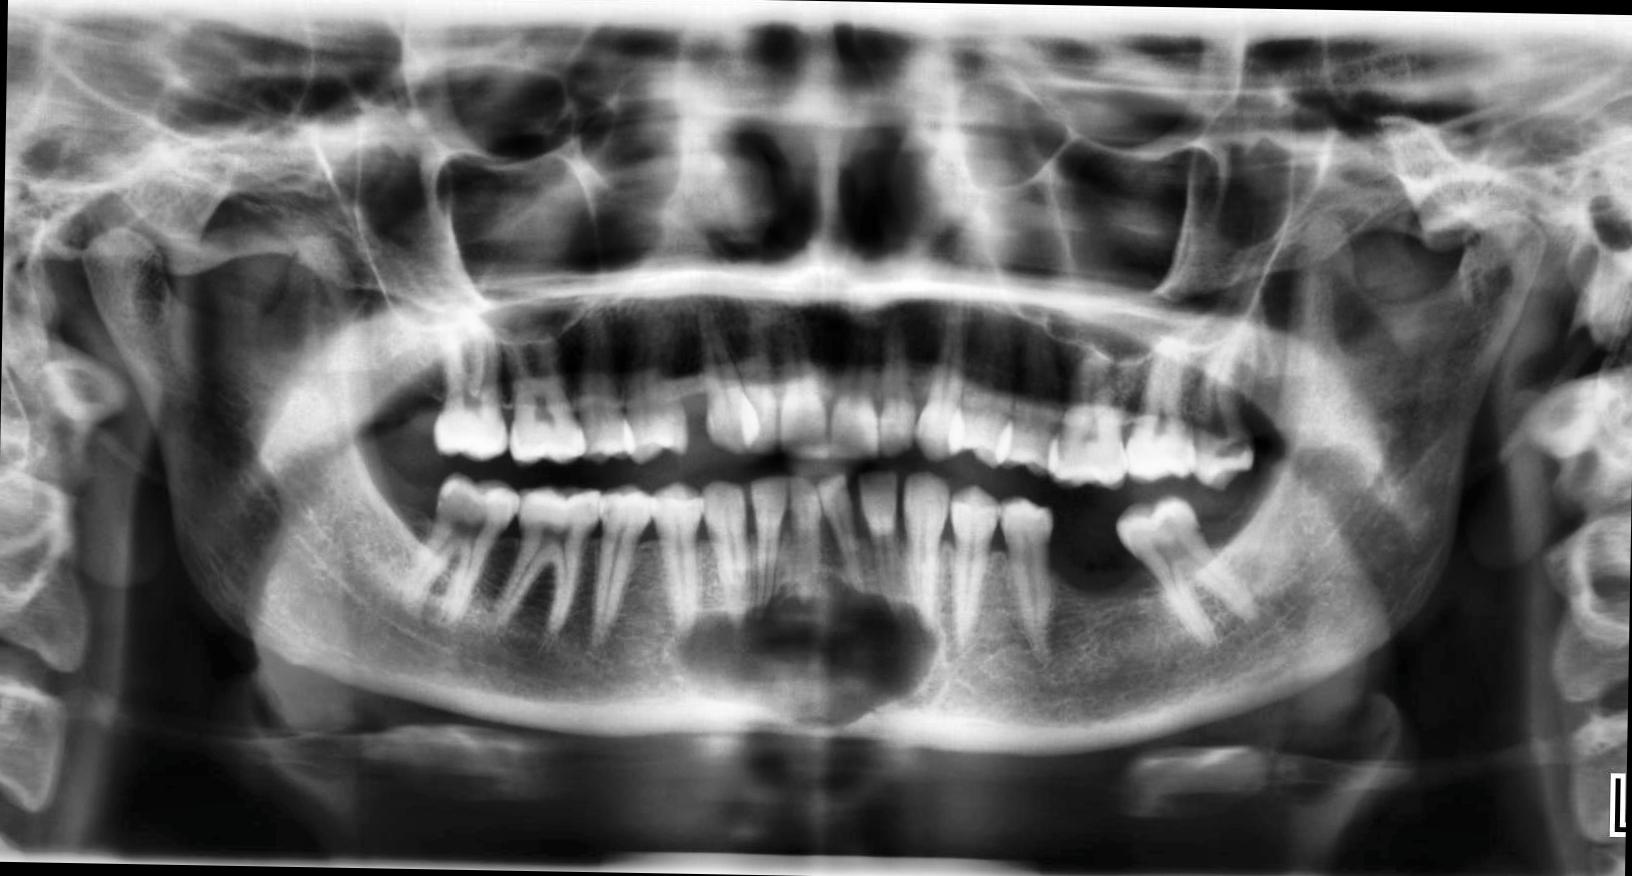radikuler: (664, 568, 942, 732)
